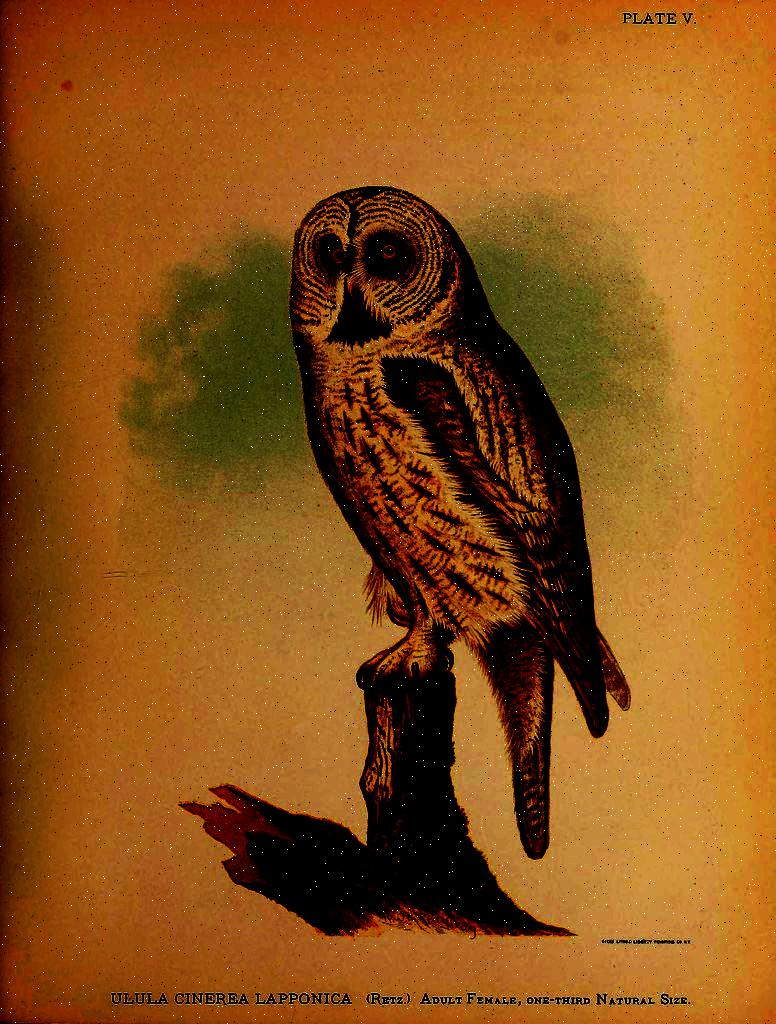Owl: (286, 183, 631, 862)
